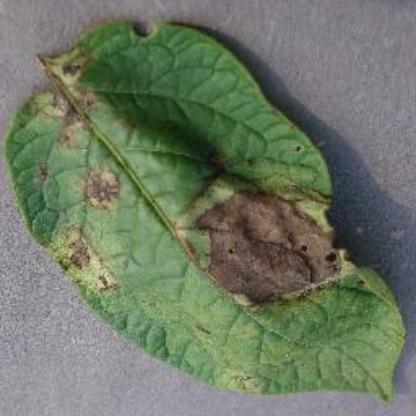Late-Blight: (5, 10, 413, 404)
